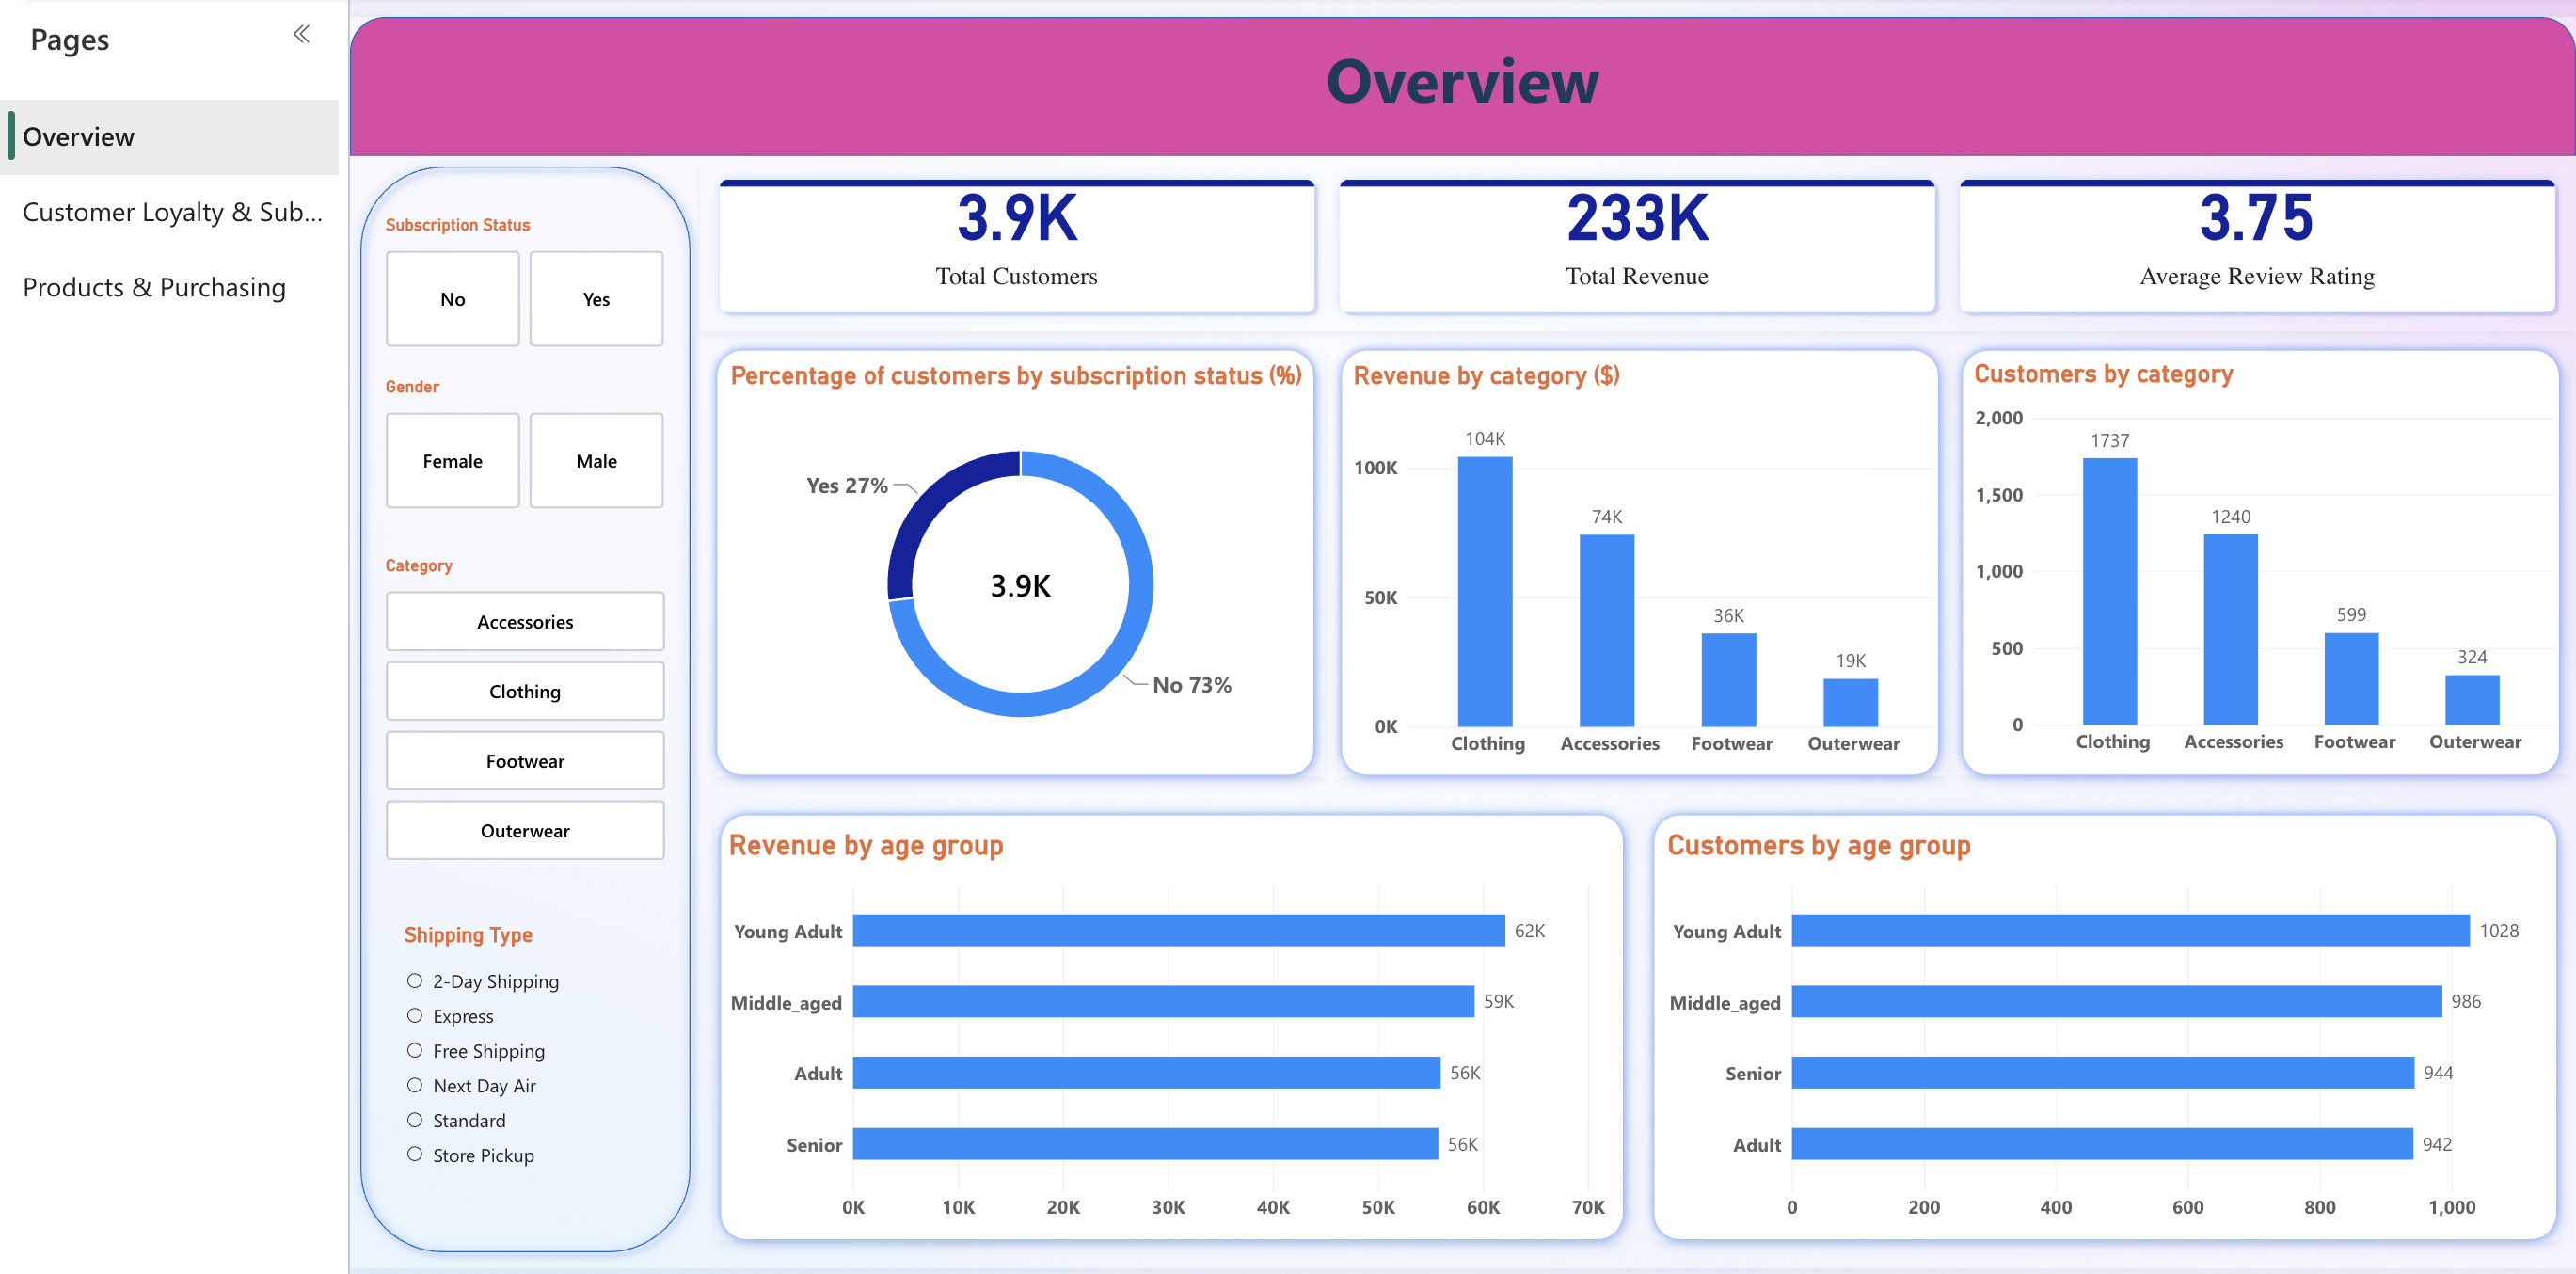

The dashboard page shown, as its layout file describes it:
{"tool":"powerbi","page":{"name":"Overview","canvas":[1920,1080],"ordinal":0},"visuals":[{"type":"cardVisual","fields":{"Data":["public customer.Number of customers","Sum(public customer.purchase_amount)","public customer.Average Review Rating"]},"box":[302,124,1618,148],"z":0},{"type":"shape","box":[0,0,1920,120],"z":1000},{"type":"textbox","box":[0,16,1920,108],"z":2000},{"type":"shape","box":[302,272,544,396],"z":3000},{"type":"donutChart","title":"Percentage of customers by subscription status (%)","fields":{"Category":["public customer.subscription_status"],"Y":["CountNonNull(public customer.customer_id)"]},"box":[316,288,524,368],"z":4000},{"type":"shape","box":[840,272,544,396],"z":5000},{"type":"clusteredColumnChart","title":"Revenue by category ($)","fields":{"Category":["public customer.category"],"Y":["Sum(public customer.purchase_amount)"]},"box":[854.2,287.8,524,368],"z":6000},{"type":"shape","box":[1376,272,544,396],"z":7000},{"type":"clusteredColumnChart","title":"Customers by category","fields":{"Category":["public customer.category"],"Y":["CountNonNull(public customer.customer_id)"]},"box":[1390,286,524,368],"z":8000},{"type":"shape","box":[0,120.7,302.7,954.4],"z":9000},{"type":"advancedSlicerVisual","title":"Subscription Status","fields":{"Values":["public customer.subscription_status"]},"box":[31.6,172.7,241.4,113.3],"z":10000},{"type":"advancedSlicerVisual","title":"Gender","fields":{"Values":["public customer.gender"]},"box":[31.6,312,241.4,113.3],"z":11000},{"type":"advancedSlicerVisual","title":"Category","fields":{"Values":["public customer.category"]},"box":[31.6,466.1,241.4,263.7],"z":12000},{"type":"shape","box":[304.5,674,807.7,395.5],"z":13000},{"type":"listSlicer","title":"Shipping Type","fields":{"Values":["public customer.shipping_type"]},"box":[31.6,768.7,241.4,286],"z":14000},{"type":"clusteredBarChart","title":"Revenue by age group","fields":{"Category":["public customer.age_group"],"Y":["Sum(public customer.purchase_amount)"]},"box":[315.7,690.8,779.9,363.9],"z":15000},{"type":"shape","box":[1110.4,674,807.7,395.5],"z":16000},{"type":"clusteredBarChart","title":"Customers by age group","fields":{"Category":["public customer.age_group"],"Y":["CountNonNull(public customer.customer_id)"]},"box":[1125.3,690.8,779.9,363.9],"z":17000}]}

Visuals, with their boxes on the page's 1920x1080 design canvas (x1, y1, x2, y2). These are canvas units, not pixel positions in the 2576x1274 screenshot, which may show the page scaled, cropped or inside an application window:
cardVisual - public customer.Number of customers x Sum(public customer.purchase_amount): {"x1": 302, "y1": 124, "x2": 1920, "y2": 272}
shape: {"x1": 0, "y1": 0, "x2": 1920, "y2": 120}
textbox: {"x1": 0, "y1": 16, "x2": 1920, "y2": 124}
shape: {"x1": 302, "y1": 272, "x2": 846, "y2": 668}
"Percentage of customers by subscription status (%)" donutChart: {"x1": 316, "y1": 288, "x2": 840, "y2": 656}
shape: {"x1": 840, "y1": 272, "x2": 1384, "y2": 668}
"Revenue by category ($)" clusteredColumnChart: {"x1": 854, "y1": 288, "x2": 1378, "y2": 656}
shape: {"x1": 1376, "y1": 272, "x2": 1920, "y2": 668}
"Customers by category" clusteredColumnChart: {"x1": 1390, "y1": 286, "x2": 1914, "y2": 654}
shape: {"x1": 0, "y1": 121, "x2": 303, "y2": 1075}
"Subscription Status" advancedSlicerVisual: {"x1": 32, "y1": 173, "x2": 273, "y2": 286}
"Gender" advancedSlicerVisual: {"x1": 32, "y1": 312, "x2": 273, "y2": 425}
"Category" advancedSlicerVisual: {"x1": 32, "y1": 466, "x2": 273, "y2": 730}
shape: {"x1": 304, "y1": 674, "x2": 1112, "y2": 1070}
"Shipping Type" listSlicer: {"x1": 32, "y1": 769, "x2": 273, "y2": 1055}
"Revenue by age group" clusteredBarChart: {"x1": 316, "y1": 691, "x2": 1096, "y2": 1055}
shape: {"x1": 1110, "y1": 674, "x2": 1918, "y2": 1070}
"Customers by age group" clusteredBarChart: {"x1": 1125, "y1": 691, "x2": 1905, "y2": 1055}
